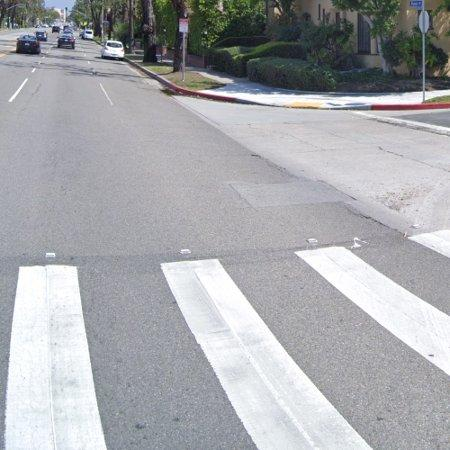crosswalks: (0, 229, 450, 450)
